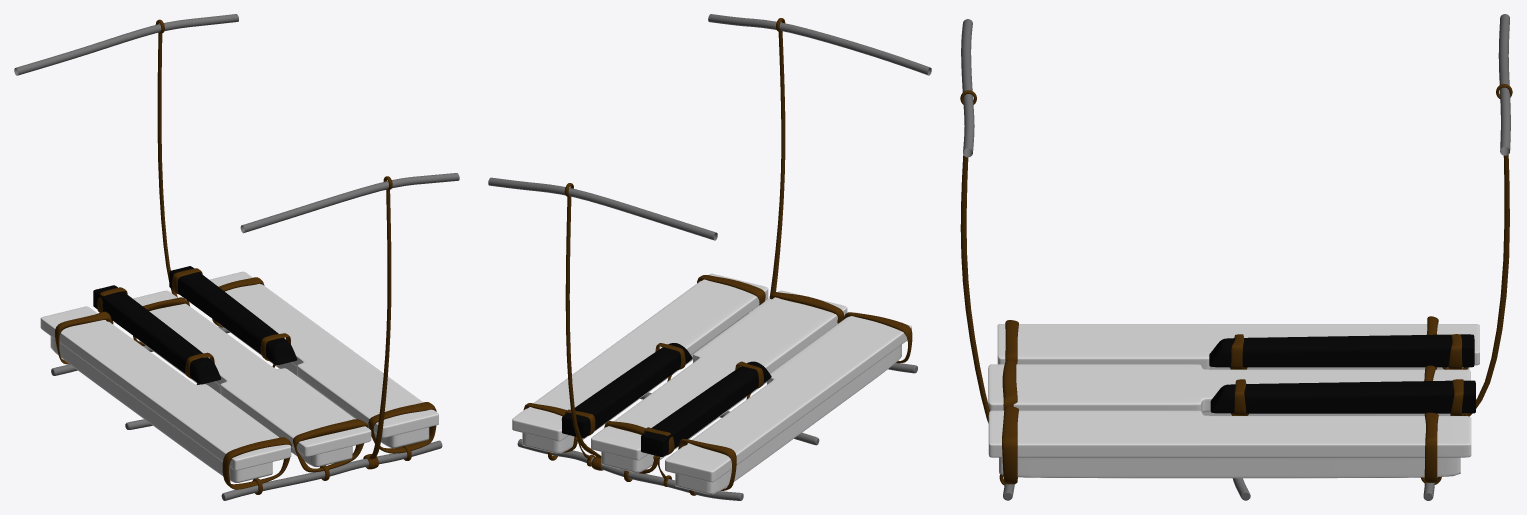
File: pianoLess_UV.fbx
3 views of the same model, side by side, from view 1: azimuth 30°, elevation 25°; view 2: azimuth 150°, elevation 25°; view 3: azimuth 270°, elevation 25° (orthographic). The views are drawn at different scales.
Visible parts, largest first — view 1: Cube.020; view 2: Cube.020; view 3: Cube.020.
Boxes of the visible parts, x1,y1,x2,y2 form: Cube.020: (14, 14, 459, 500); Cube.020: (488, 14, 931, 500); Cube.020: (960, 14, 1512, 500).
Bounding box in the file's own units: 70.7 × 92.28 × 123.
